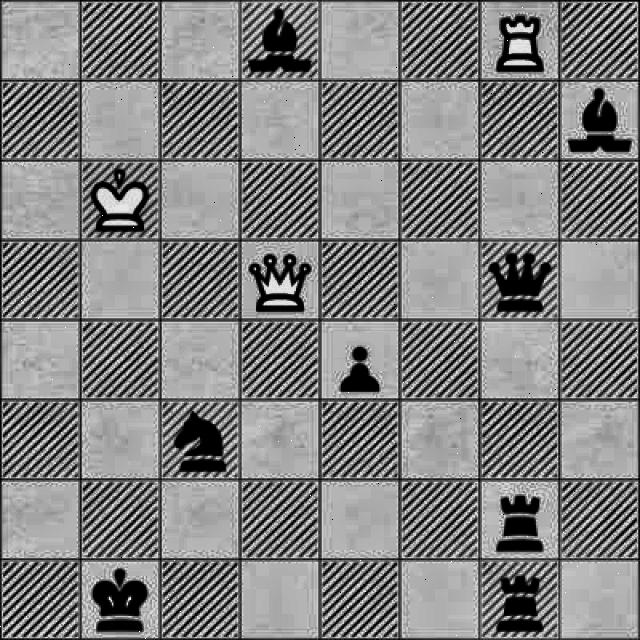Black Knight: (164, 399, 230, 474)
black bishop: (560, 82, 638, 161), (242, 2, 316, 82)
black king: (82, 565, 156, 637)
black pawn: (324, 343, 394, 397)
black queen: (486, 247, 554, 320)
black rook: (484, 565, 551, 635), (486, 486, 553, 554)
white king: (83, 158, 158, 238)
white queen: (248, 244, 314, 320)
white rook: (490, 12, 546, 84)
